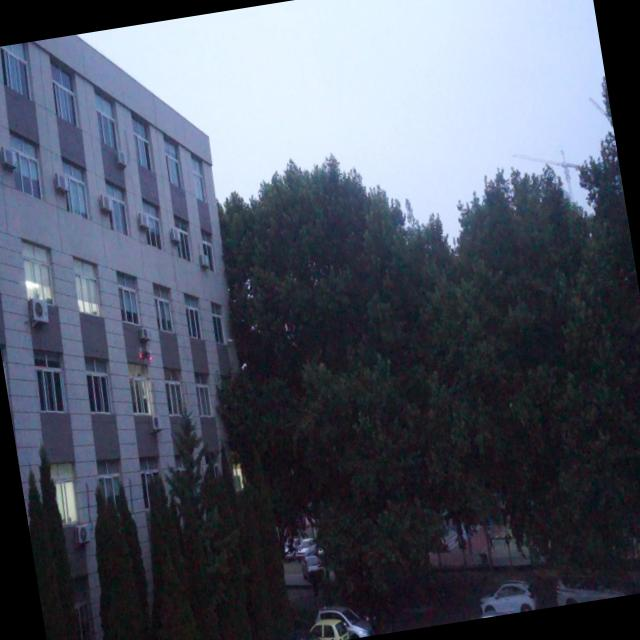drone: (137, 344, 154, 370)
